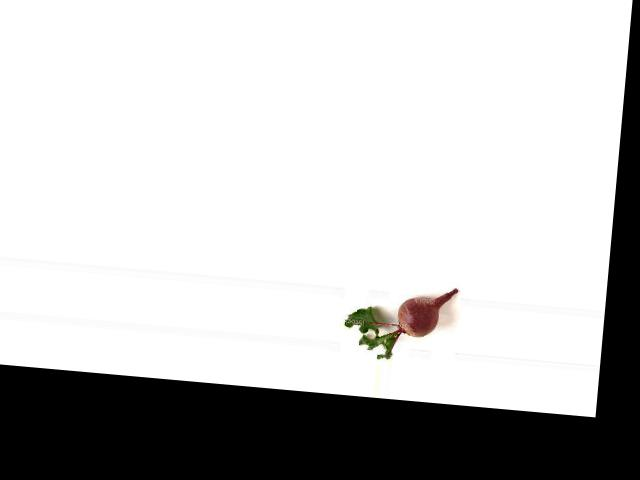beet: (341, 279, 457, 365)
